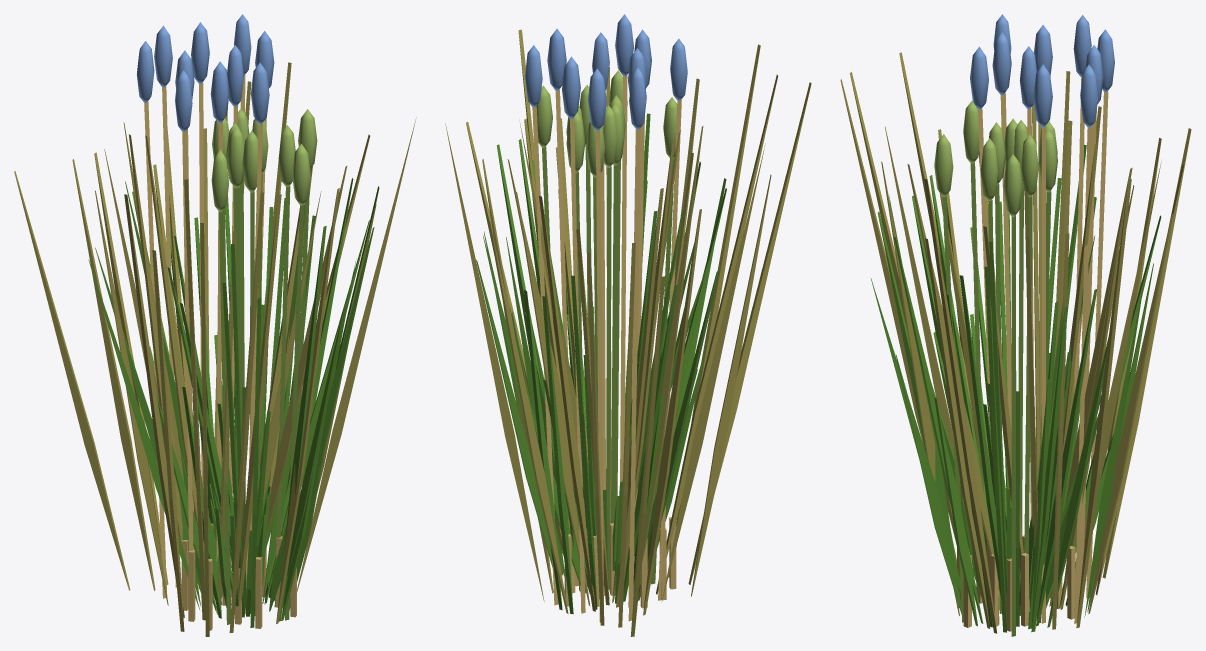
The model's file is Crop_Crop_Flax.fbx.
3 renders of one model, left to right at view 1: azimuth 30°, elevation 25°; view 2: azimuth 150°, elevation 25°; view 3: azimuth 270°, elevation 25°, orthographic.
Visible parts, largest first — view 1: Crop_Crop_Flax__S4, Crop_Crop_Flax__S3, Crop_Crop_Flax__S2, Crop_Crop_Flax__S5, Crop_Crop_Flax__S1; view 2: Crop_Crop_Flax__S4, Crop_Crop_Flax__S3, Crop_Crop_Flax__S2, Crop_Crop_Flax__S5, Crop_Crop_Flax__S1; view 3: Crop_Crop_Flax__S4, Crop_Crop_Flax__S3, Crop_Crop_Flax__S2, Crop_Crop_Flax__S5, Crop_Crop_Flax__S1.
Boxes of the visible parts, bbox=[...] form: Crop_Crop_Flax__S4: bbox=[14, 14, 416, 636]; Crop_Crop_Flax__S3: bbox=[88, 108, 379, 627]; Crop_Crop_Flax__S2: bbox=[149, 304, 329, 620]; Crop_Crop_Flax__S5: bbox=[181, 494, 296, 630]; Crop_Crop_Flax__S1: bbox=[209, 484, 286, 616]; Crop_Crop_Flax__S4: bbox=[445, 14, 811, 636]; Crop_Crop_Flax__S3: bbox=[476, 70, 726, 614]; Crop_Crop_Flax__S2: bbox=[512, 306, 708, 609]; Crop_Crop_Flax__S5: bbox=[564, 481, 676, 608]; Crop_Crop_Flax__S1: bbox=[568, 490, 656, 591]; Crop_Crop_Flax__S4: bbox=[840, 14, 1191, 633]; Crop_Crop_Flax__S3: bbox=[871, 100, 1161, 636]; Crop_Crop_Flax__S2: bbox=[895, 314, 1113, 631]; Crop_Crop_Flax__S5: bbox=[957, 486, 1075, 631]; Crop_Crop_Flax__S1: bbox=[962, 480, 1041, 599].
Size of the model in its own units: 0.1985 by 0.3821 by 0.2147.
